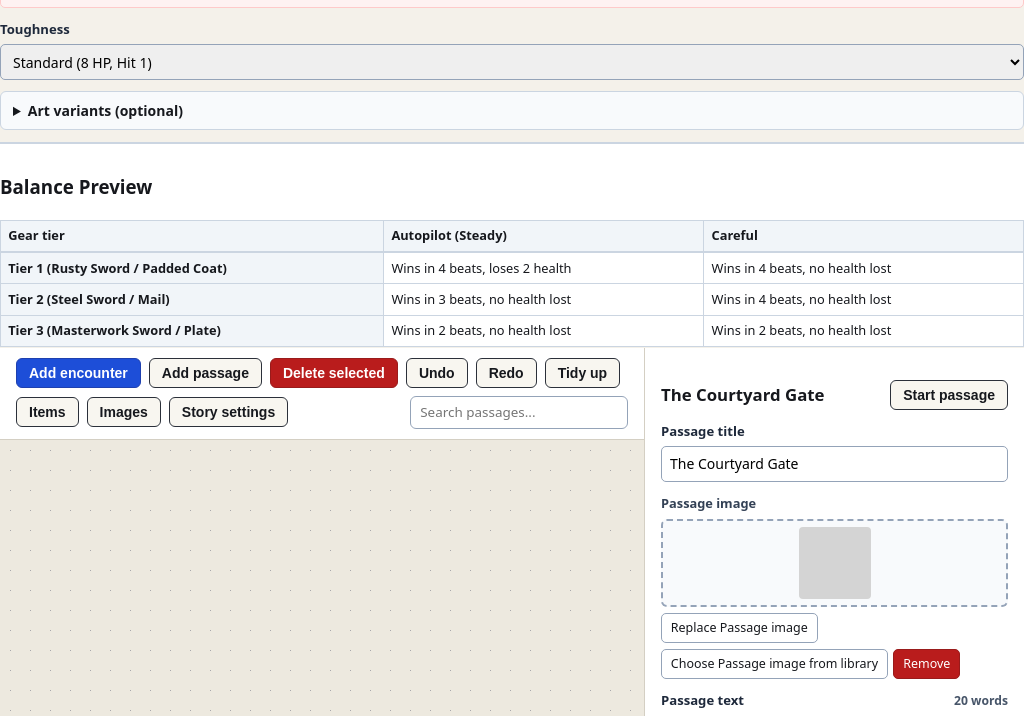
Test: external imageStore (#38) › shows a visible error when saving an image or story fails
The width and height of the screenshot is (1024, 716).
Earlier steps of the test are not shown.
(page scrolled)
Click the button "Add passage" at (205, 372), box [149,358,262,388]
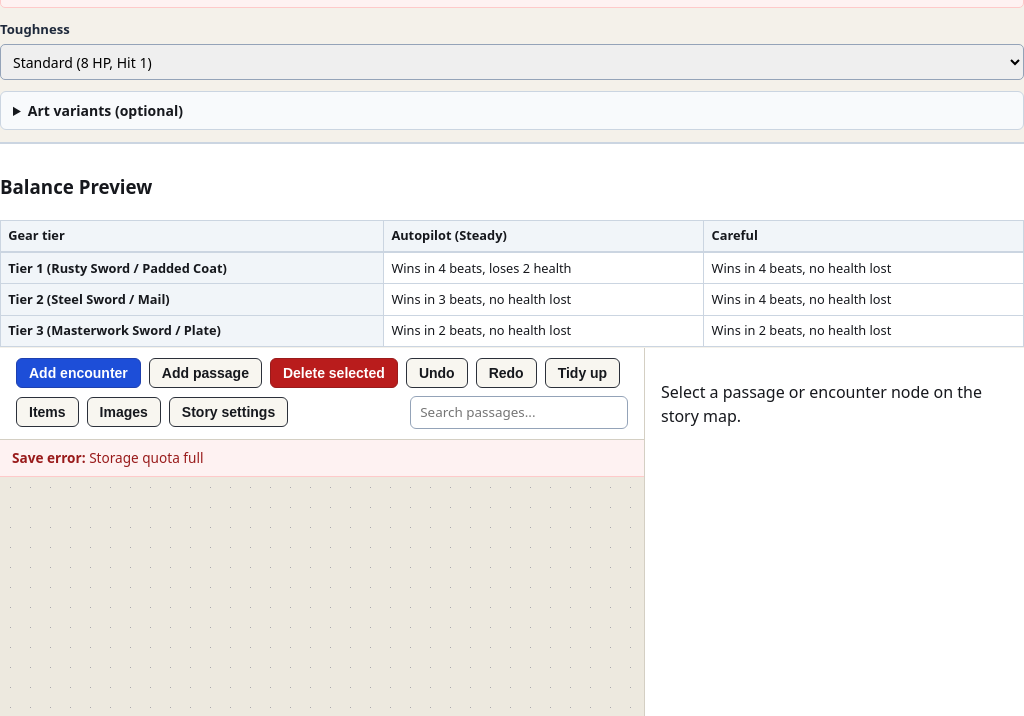
Expected: the message with test id "story-save-error" shows "Storage quota full", [89,448,203,467]
